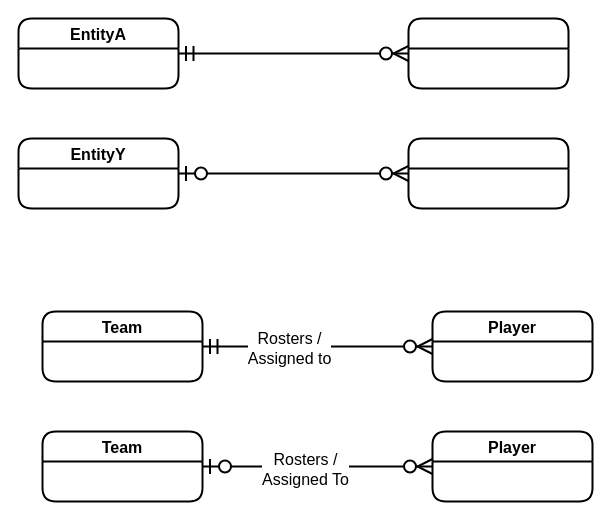
Image size: 610x519. Some labels were removed from this diagram. The shapes that lost their labels are listed below. From the top down, each one's box as (x1, y1, x2, y2) in pixels, then its label:
(407, 17, 569, 89): EntityB
(407, 137, 569, 209): EntityZ
